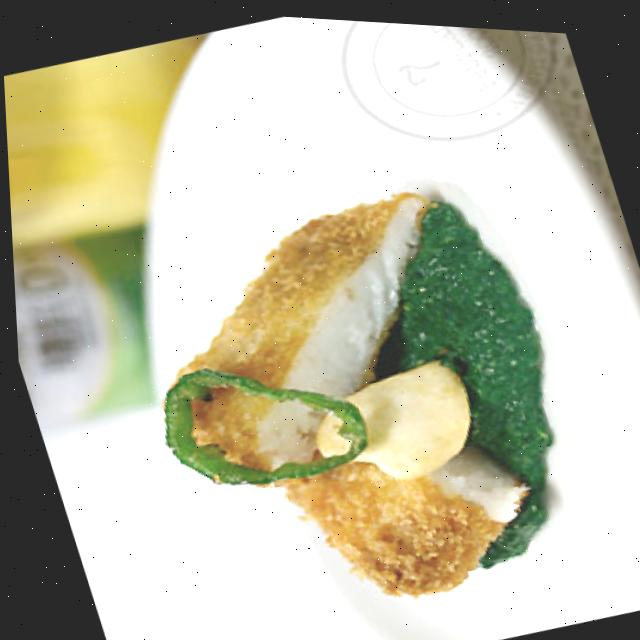炸货点心: (84, 109, 593, 640)
熟制海鲜: (84, 109, 593, 640)
